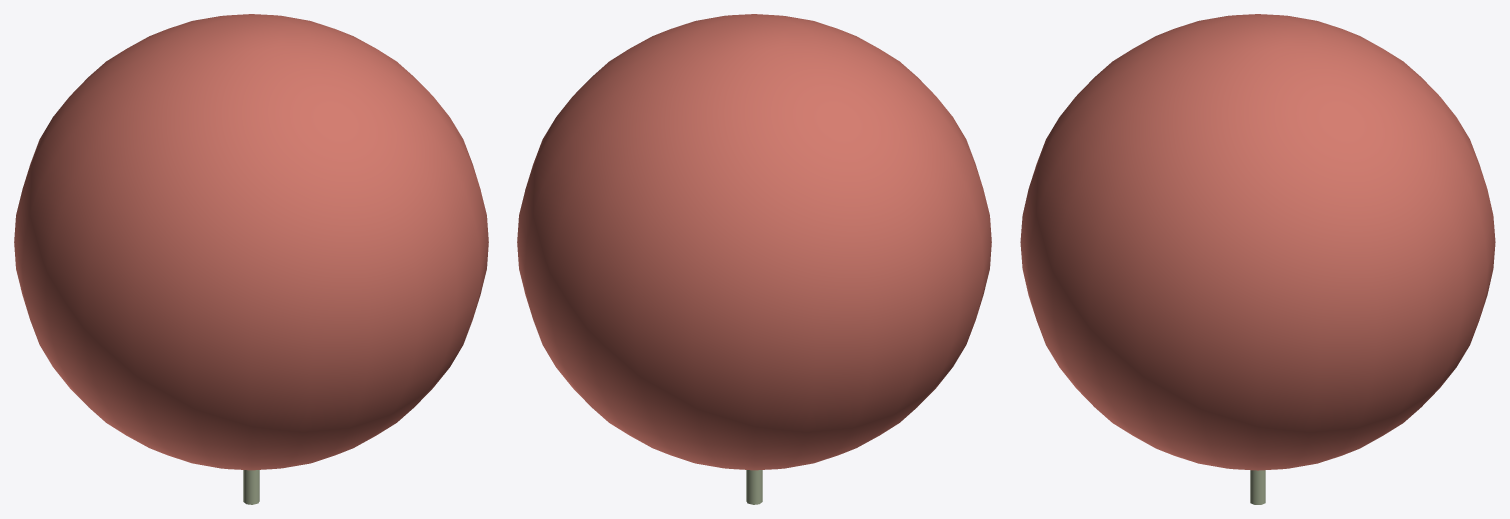
The model's file is RosaGrandiflora.glb.
The picture shows the model from 3 angles, left to right: view 1: azimuth 30°, elevation 25°; view 2: azimuth 150°, elevation 25°; view 3: azimuth 270°, elevation 25°; orthographic projection.
Visible parts, largest first — view 1: Rose__Schematic_LOD3; view 2: Rose__Schematic_LOD3; view 3: Rose__Schematic_LOD3.
Part boxes in pixels (bbox=[...]): Rose__Schematic_LOD3: bbox=[14, 14, 488, 504]; Rose__Schematic_LOD3: bbox=[517, 14, 991, 504]; Rose__Schematic_LOD3: bbox=[1020, 14, 1495, 504].
Size of the model in its own units: 1.12 by 1.21 by 1.12.
